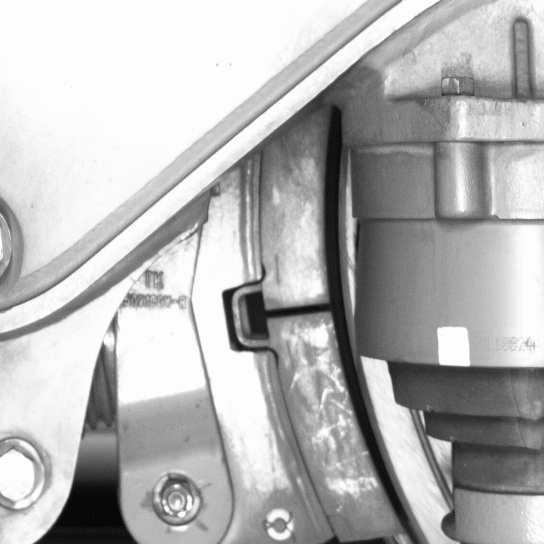KnifeSwitch: (261, 137, 428, 541)
